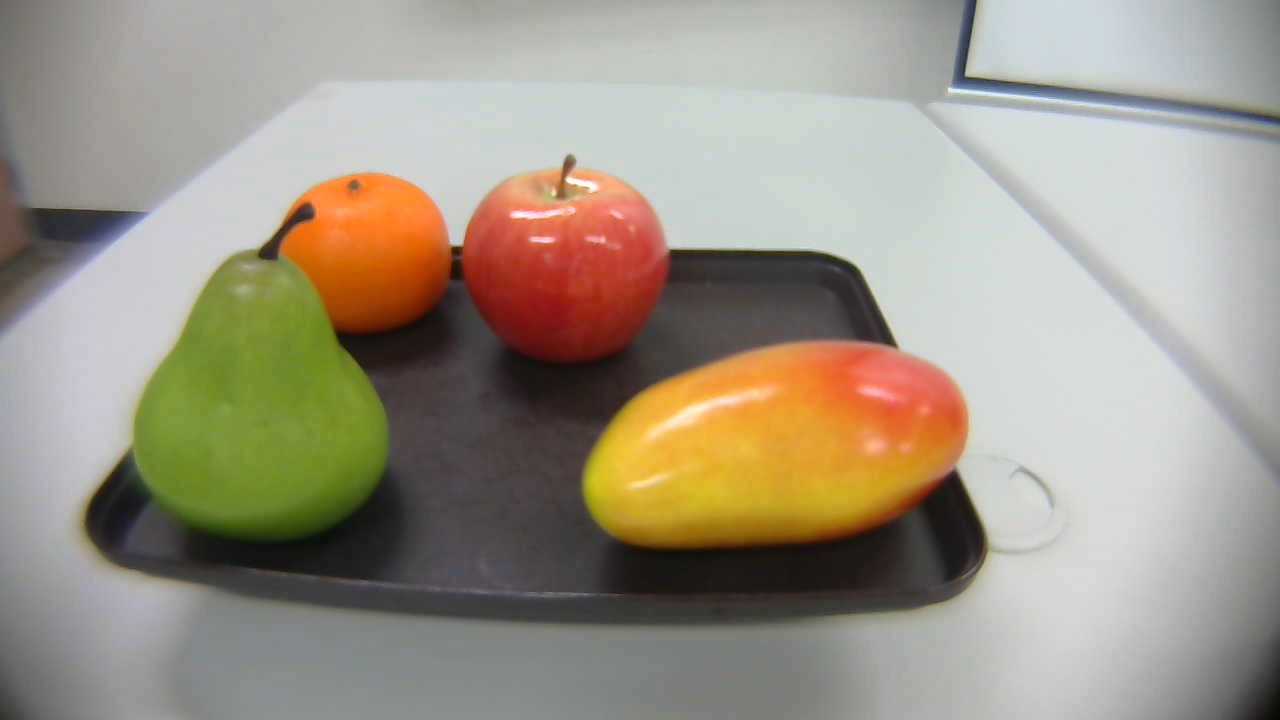green pear: (122, 203, 402, 539)
orange: (268, 163, 453, 343)
red apple: (453, 151, 680, 366)
red mango: (577, 329, 973, 558)
